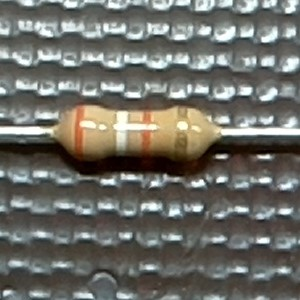gold_band: (173, 105, 190, 163)
orange_band: (73, 102, 85, 165), (140, 110, 152, 158)
white_band: (114, 108, 129, 160)
